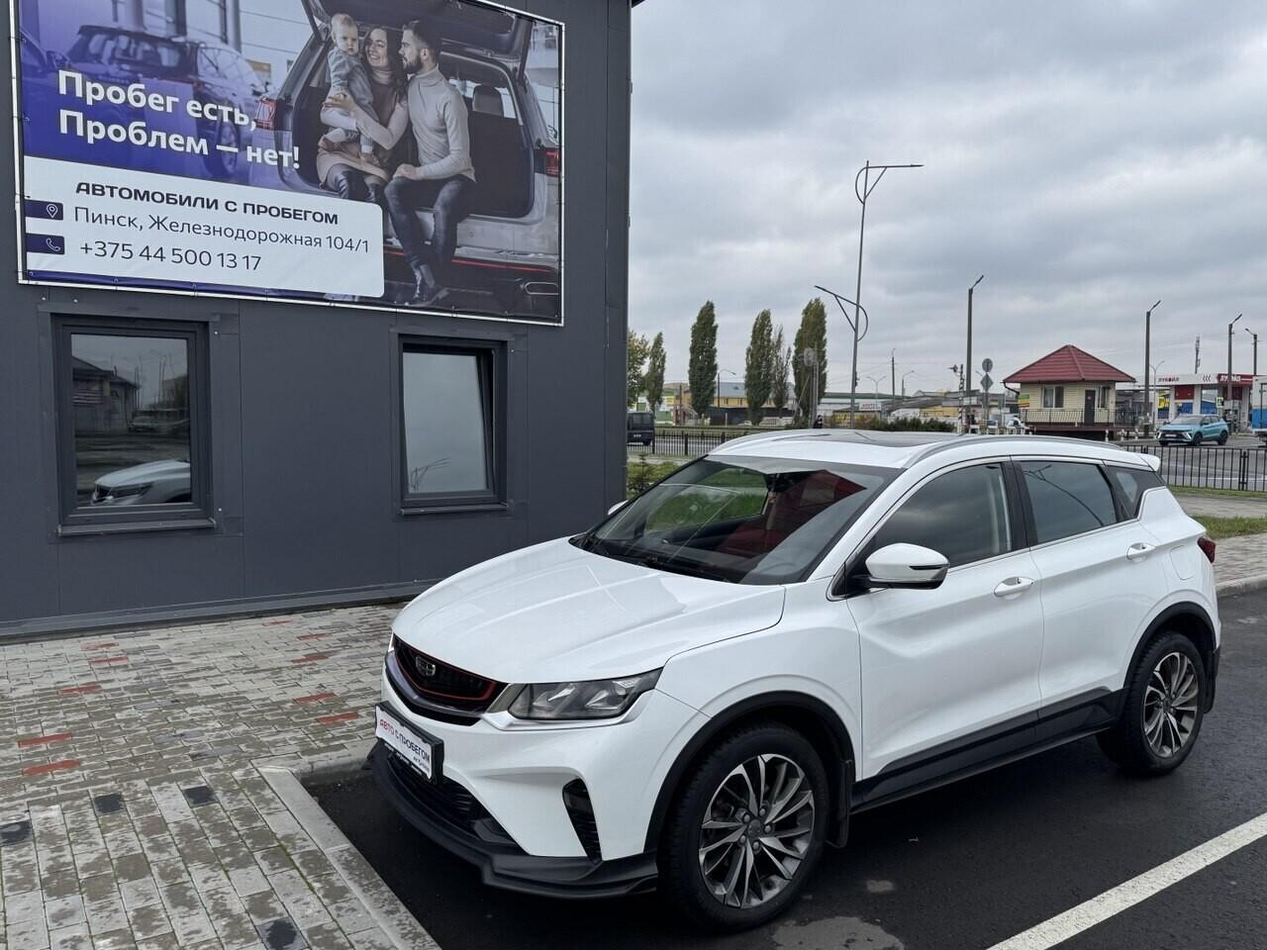Coolray_2019-2023: (374, 430, 1225, 915)
